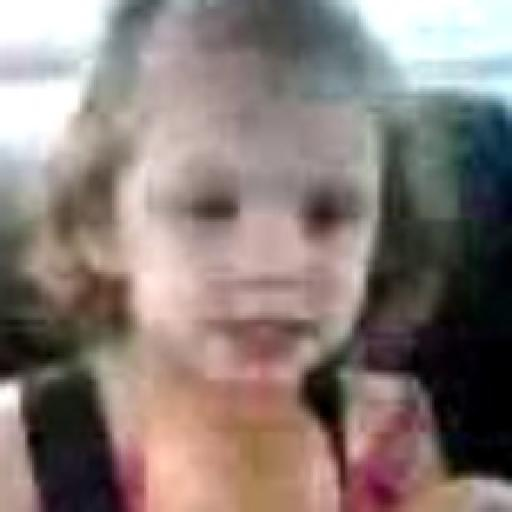Autism: (90, 18, 398, 406)
